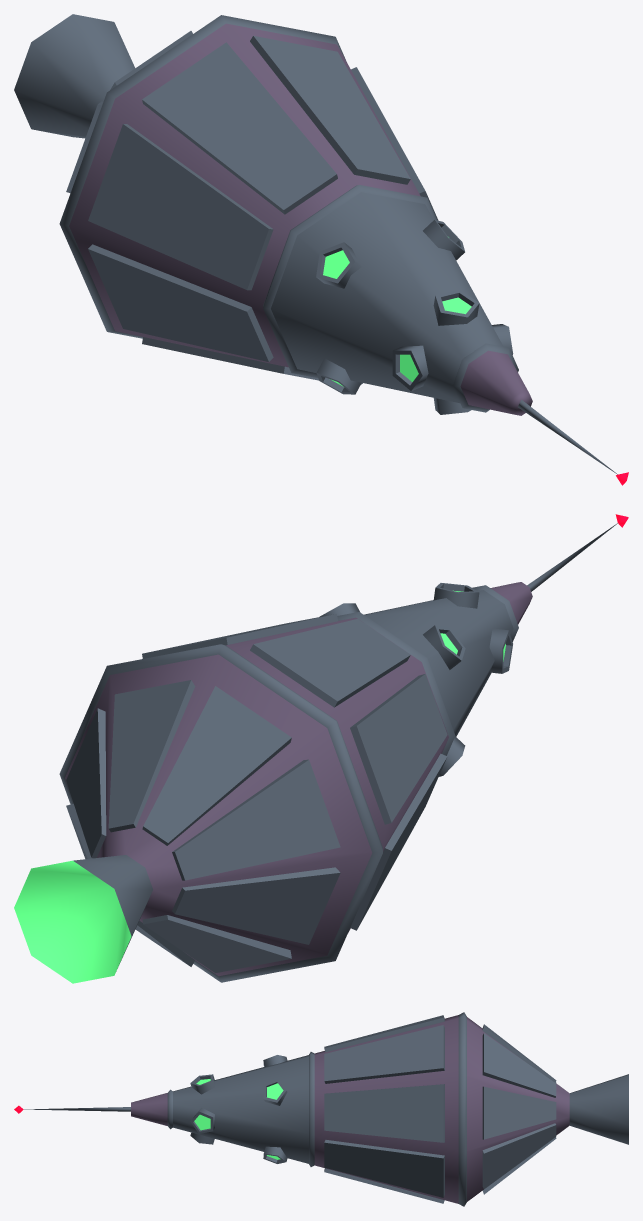
Rendered from Ship-TypeB-Cone.fbx.
The picture shows the model from 3 angles, top to bottom: view 1: azimuth 30°, elevation 25°; view 2: azimuth 150°, elevation 25°; view 3: azimuth 270°, elevation 25°; orthographic projection. The views are drawn at different scales.
Parts seen in each view (by area): view 1: Ship_Overpopulated_01; view 2: Ship_Overpopulated_01; view 3: Ship_Overpopulated_01.
Boxes of the visible parts, x1,y1,x2,y2 form: Ship_Overpopulated_01: [14, 14, 617, 474]; Ship_Overpopulated_01: [14, 523, 617, 983]; Ship_Overpopulated_01: [24, 1012, 628, 1206].
Bounding box in the file's own units: 0.4685 × 0.4685 × 1.39.
